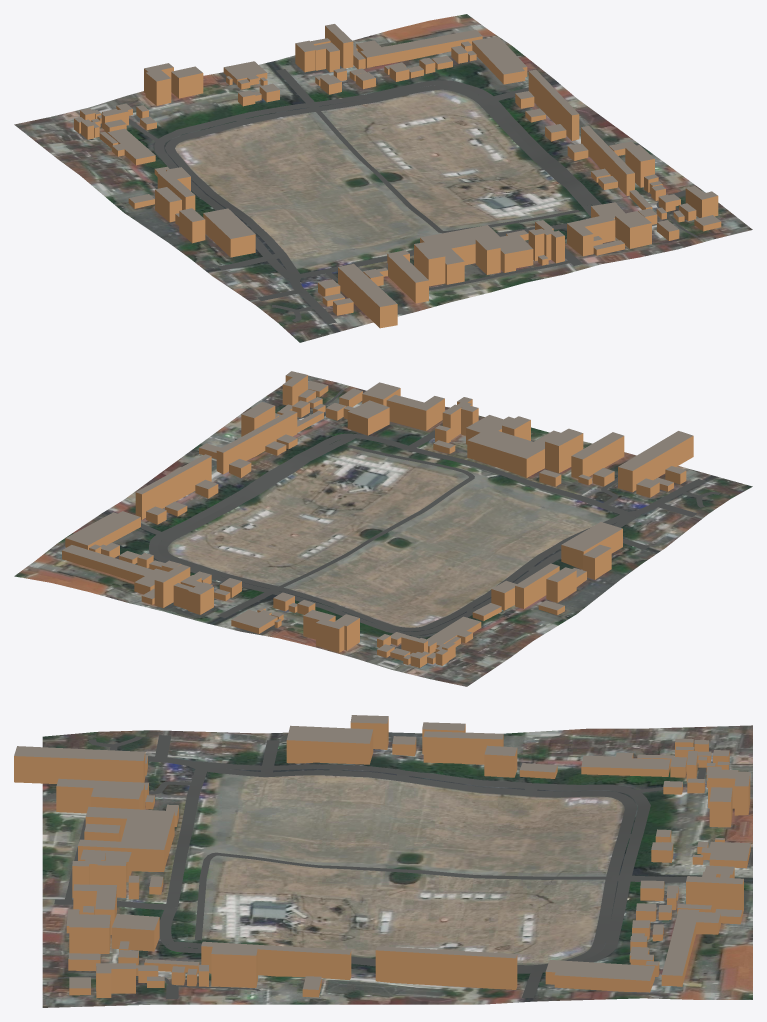
The model's file is alun-alun.fbx.
3 views of the same model, one above another, from view 1: azimuth 30°, elevation 25°; view 2: azimuth 150°, elevation 25°; view 3: azimuth 270°, elevation 25° (orthographic). The views are drawn at different scales.
Visible parts, largest first — view 1: Terrain, map_8.osm_buildings, map_8.osm_roads_tertiary, map_8.osm_roads_service, map_8.osm_roads_residential; view 2: Terrain, map_8.osm_buildings, map_8.osm_roads_tertiary, map_8.osm_roads_service, map_8.osm_roads_residential; view 3: Terrain, map_8.osm_buildings, map_8.osm_roads_tertiary, map_8.osm_roads_service, map_8.osm_roads_residential.
Part boxes in pixels (x1,y1,x2,y2): Terrain: (14,14,752,342); map_8.osm_buildings: (74,24,721,328); map_8.osm_roads_tertiary: (154,69,601,279); map_8.osm_roads_service: (100,109,579,321); map_8.osm_roads_residential: (218,190,685,324); Terrain: (14,375,752,686); map_8.osm_buildings: (62,371,693,667); map_8.osm_roads_tertiary: (115,433,636,635); map_8.osm_roads_service: (276,440,720,653); map_8.osm_roads_residential: (407,430,706,549); Terrain: (42,725,752,1007); map_8.osm_buildings: (14,715,750,998); map_8.osm_roads_tertiary: (159,762,686,997); map_8.osm_roads_service: (64,736,706,940); map_8.osm_roads_residential: (54,735,279,998).
Size of the model in its own units: 36763 by 3164 by 41822.
7 materials, 1 textured.
